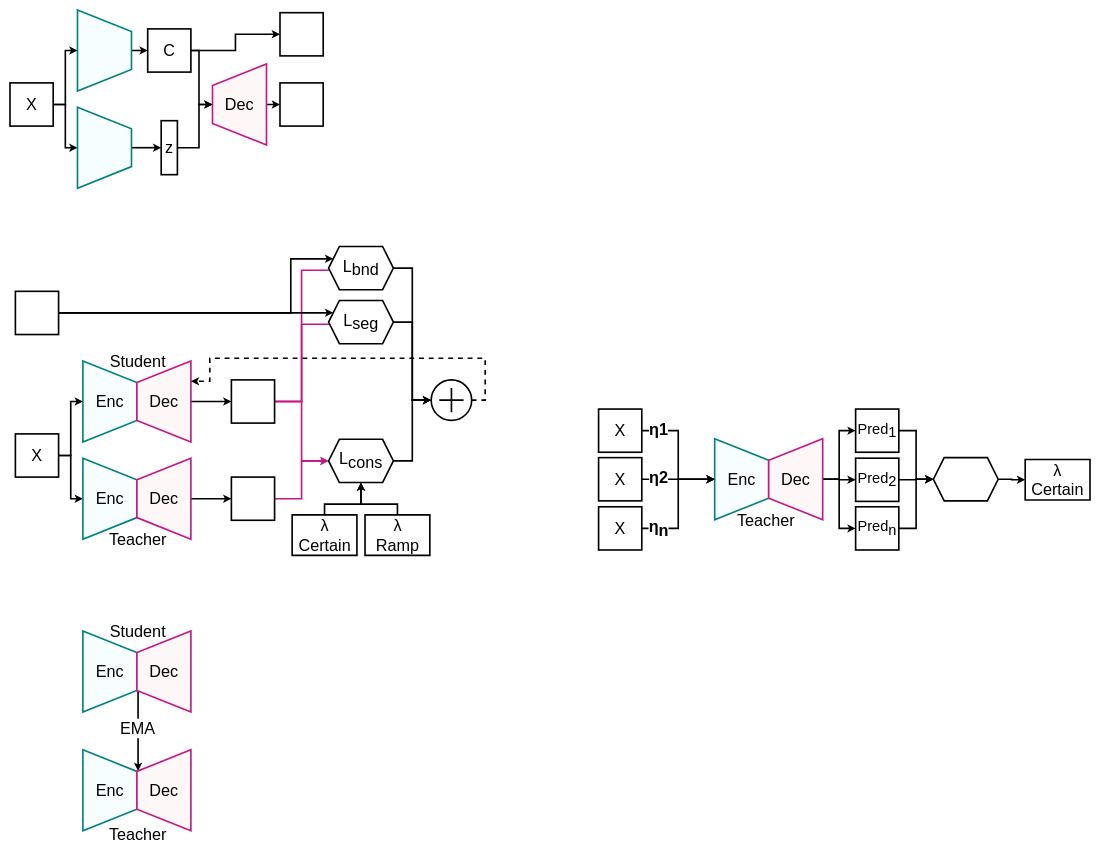
Some shapes in this 1100 by 854 pixel diagram are drawn without their labels. Each missing label, with the box of its shape:
C-Enc: (76, 9, 132, 92)
Entropy: (932, 457, 999, 501)
S GT: (14, 290, 59, 335)
S Pred: (230, 379, 275, 424)
S-Enc: (76, 106, 132, 189)
T Pred: (230, 476, 275, 521)
X': (279, 82, 324, 127)
Y': (279, 12, 324, 56)
